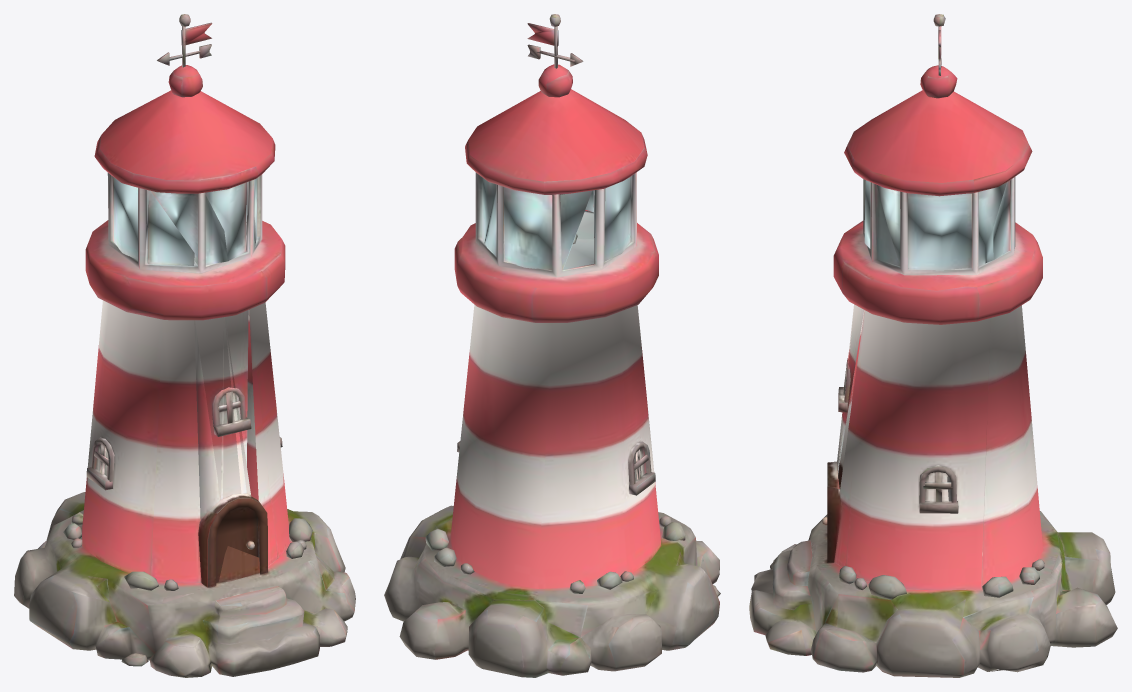
The model's file is lighthouse.glb.
3 renders of one model, left to right at view 1: azimuth 30°, elevation 25°; view 2: azimuth 150°, elevation 25°; view 3: azimuth 270°, elevation 25°, orthographic.
Bounding box in the file's own units: 0.4858 × 0.9526 × 0.5333.
Materials: 1 (1 with a texture image).
